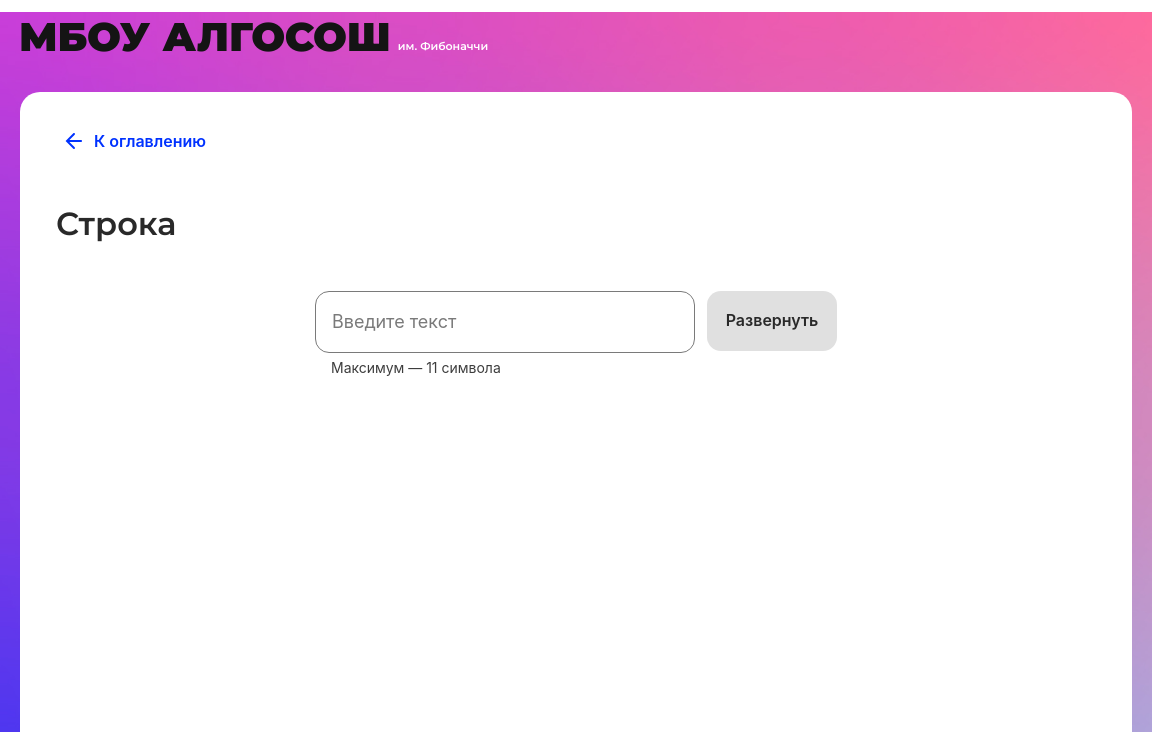
Scenario: Строка › если в инпуте пусто, кнопка добавления недоступна
The image size is (1152, 732).
Expected: the button "Развернуть" is disabled, left=707, top=291, right=837, bottom=351
Type "blah" into the field with placeholder "Введите текст". click: (505, 322)
box: left=315, top=291, right=695, bottom=353
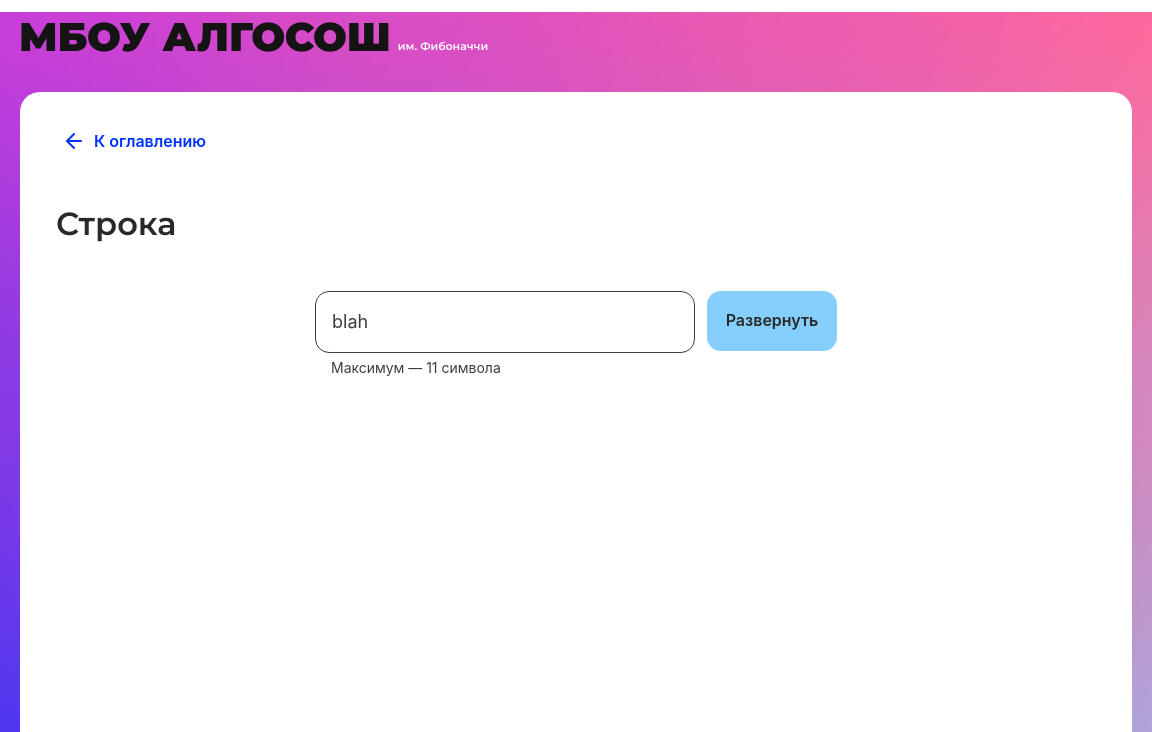
Now the button "Развернуть" is enabled, box left=707, top=291, right=837, bottom=351
